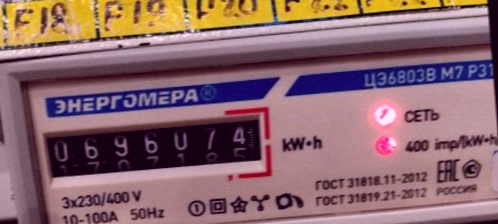0: (49, 137, 70, 162), (171, 125, 188, 152)
4: (228, 121, 246, 144)
5: (231, 146, 248, 162)
6: (142, 128, 161, 155), (81, 134, 100, 160)
7: (201, 124, 219, 150)
9: (111, 131, 129, 158)
screen: (32, 102, 276, 189)
